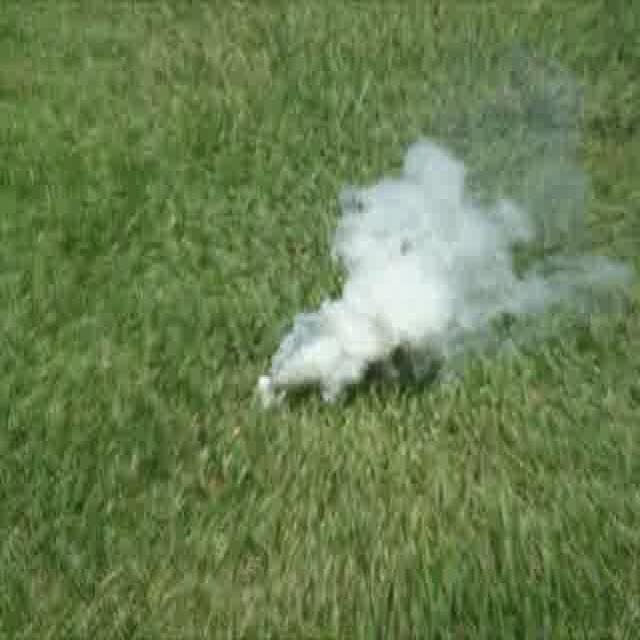Smoke: (252, 135, 637, 410)
